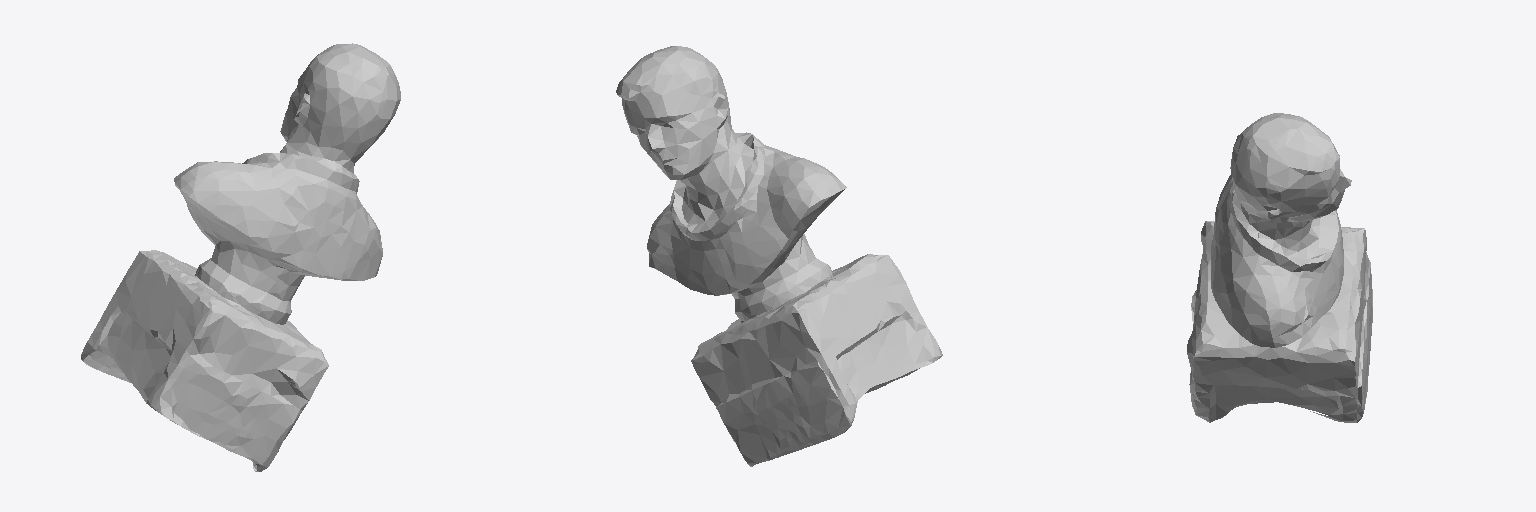
File: yuri gagarin low.obj
3 views of the same model, side by side, from view 1: azimuth 30°, elevation 25°; view 2: azimuth 150°, elevation 25°; view 3: azimuth 270°, elevation 25° (orthographic).
Size of the model in its own units: 28.69 by 36.05 by 16.59.